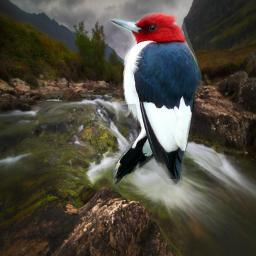Woodpecker: (109, 7, 203, 191)
